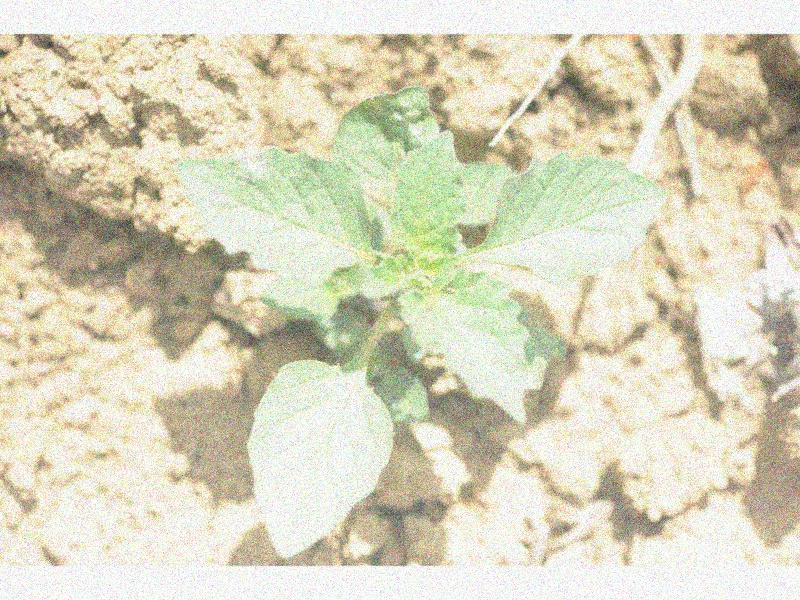nightshade: (173, 86, 668, 556)
